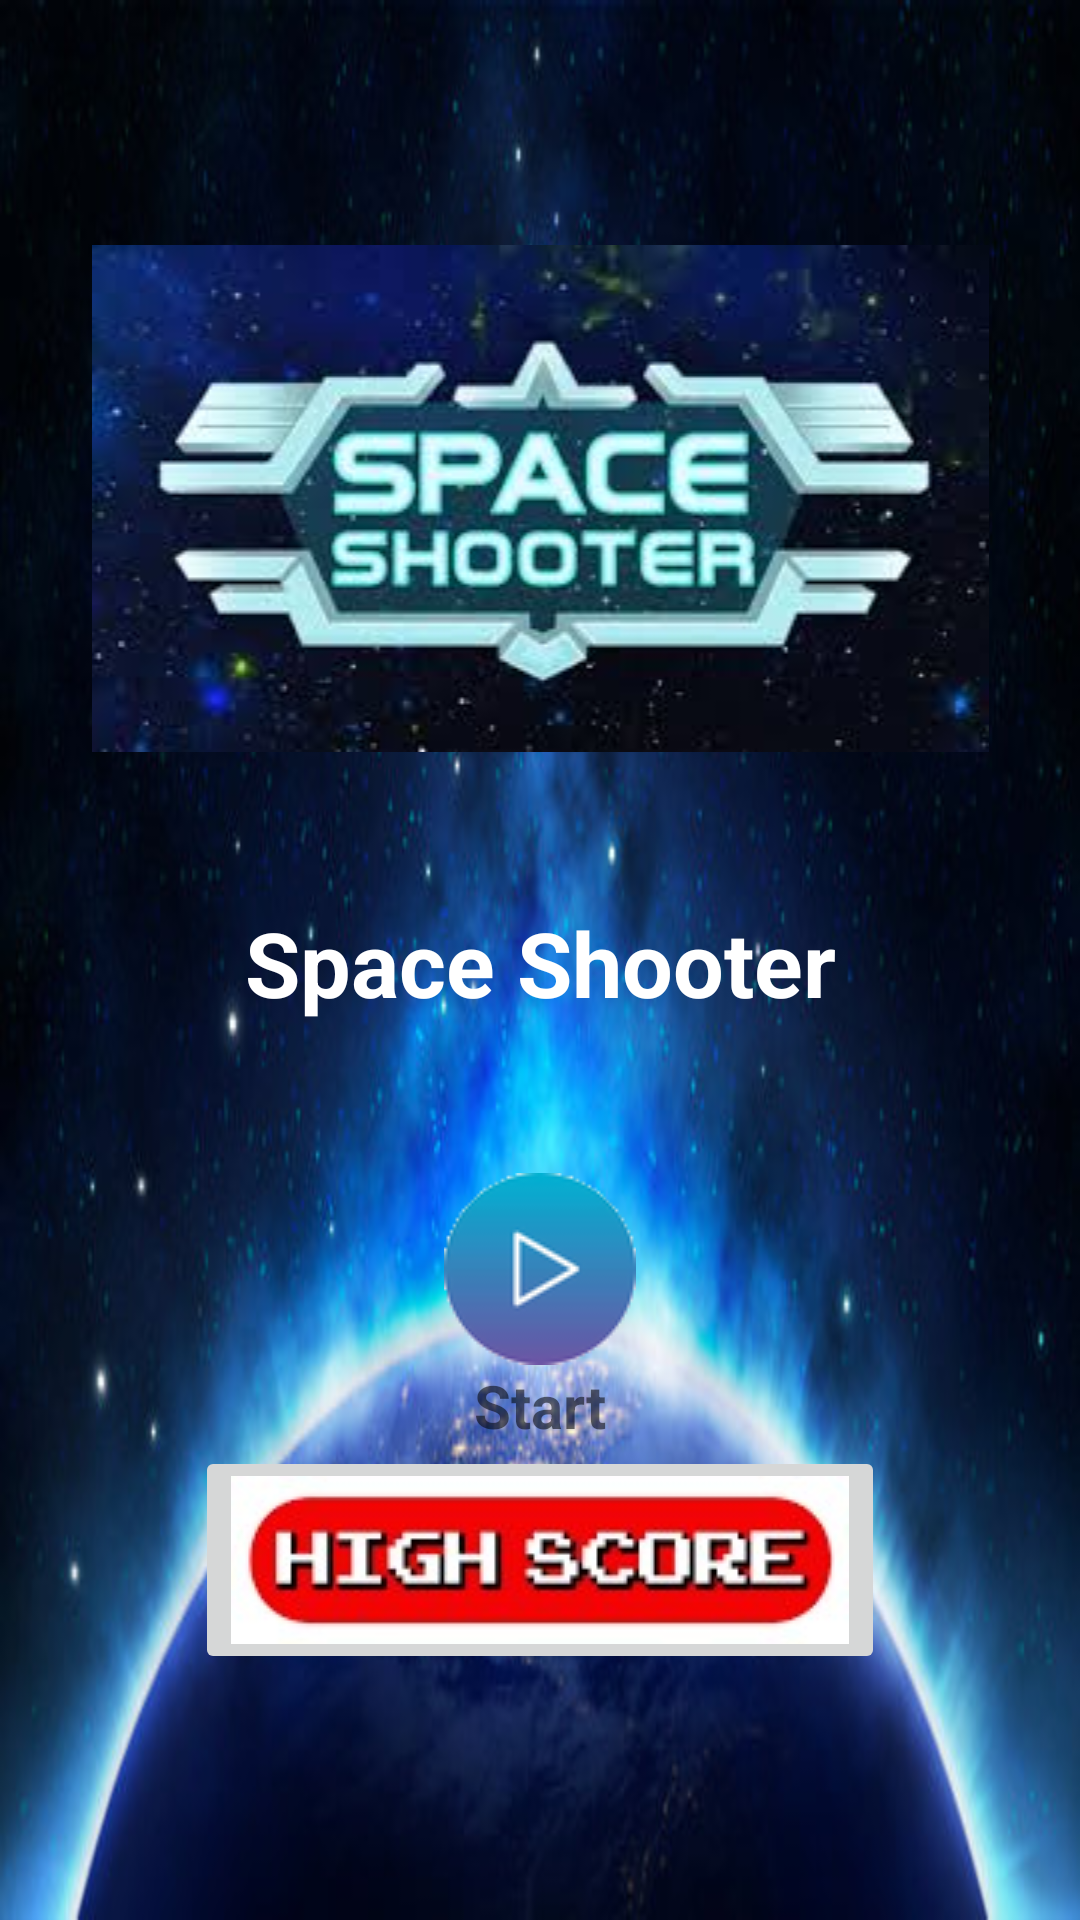

Named icons in this screenshot (1080*1920) and their centers, point (x, y):
play id: point (540, 1269)
